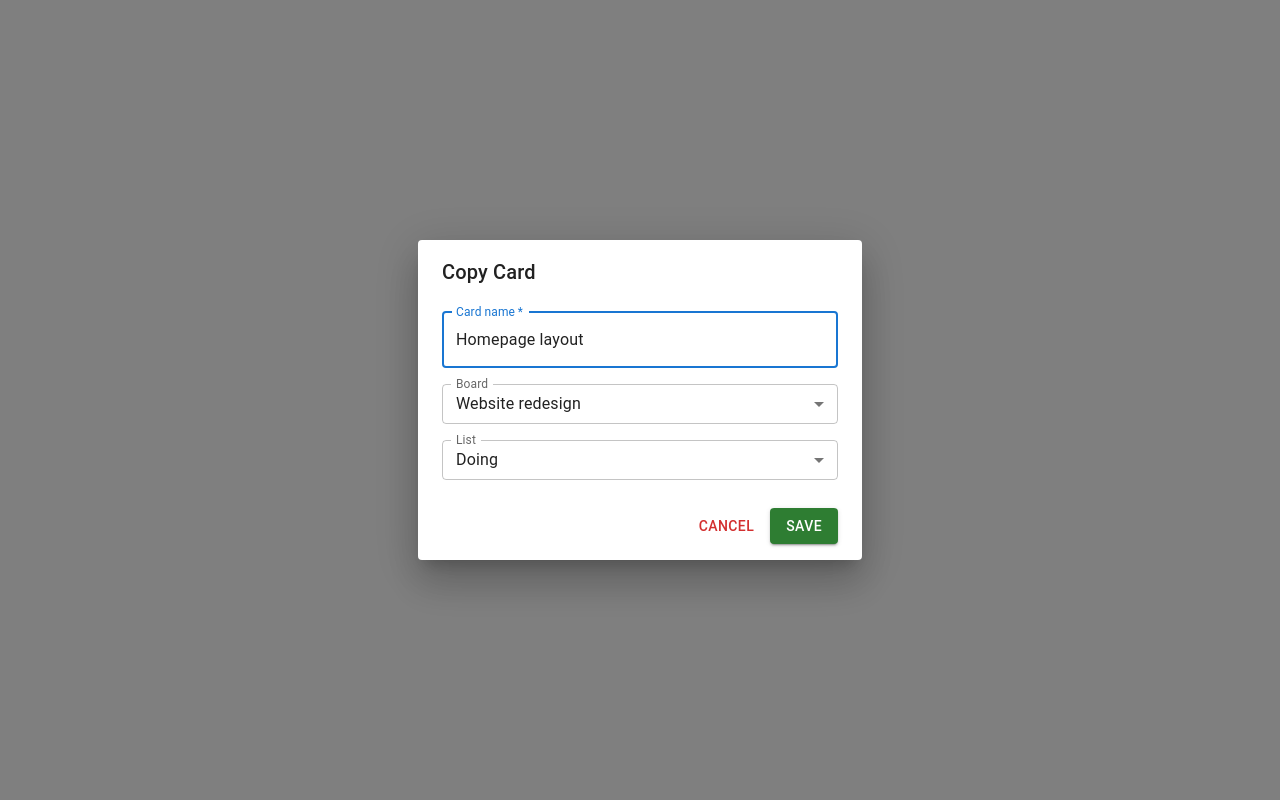
CopyCardDialog › offers every board, owned or shared, and the lists of the chosen one
This screenshot has width=1280, height=800.
Expected: the dropdown named "List" reads "Doing", [456,450,498,469]
Click the dropdown named "Board": {"x": 518, "y": 404} [456,394,581,413]
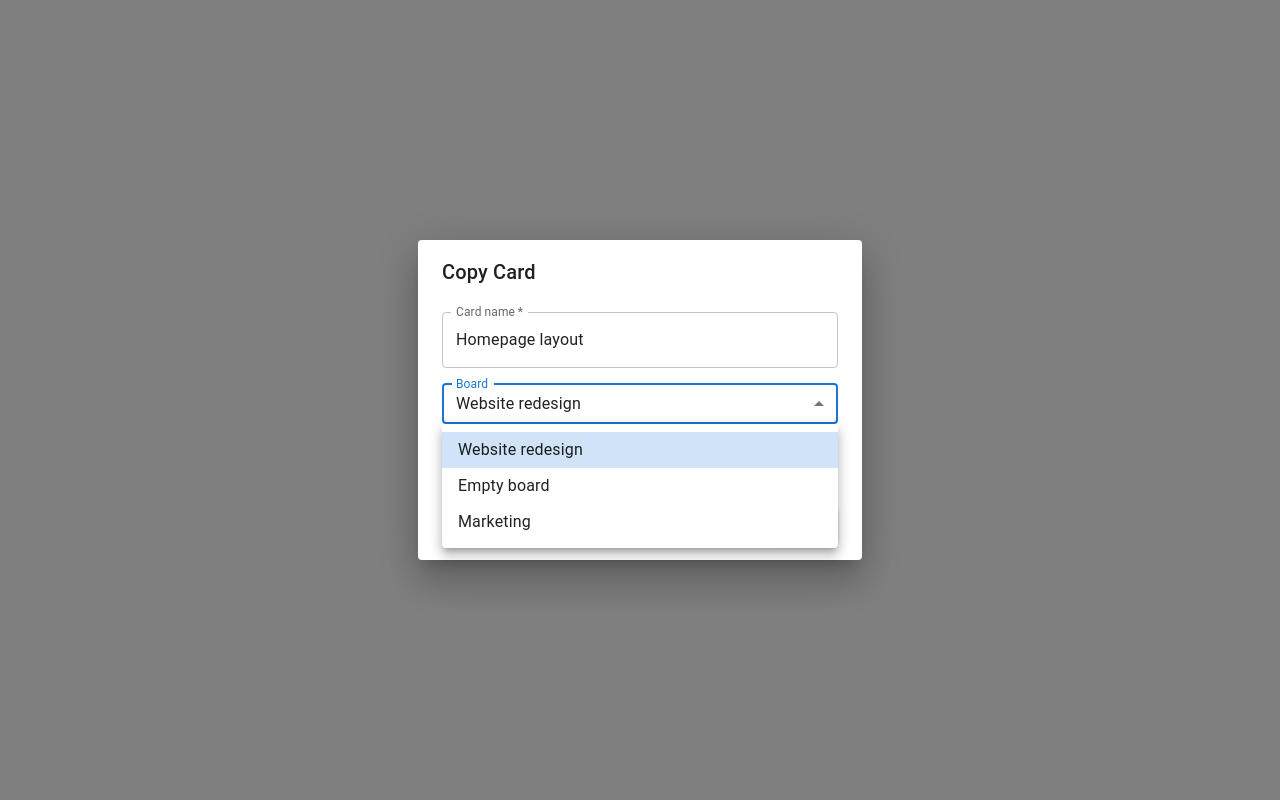
Result: the options read "Website redesign", "Empty board", "Marketing", in this order
Click the option "Website redesign": {"x": 520, "y": 450} [442,432,838,468]
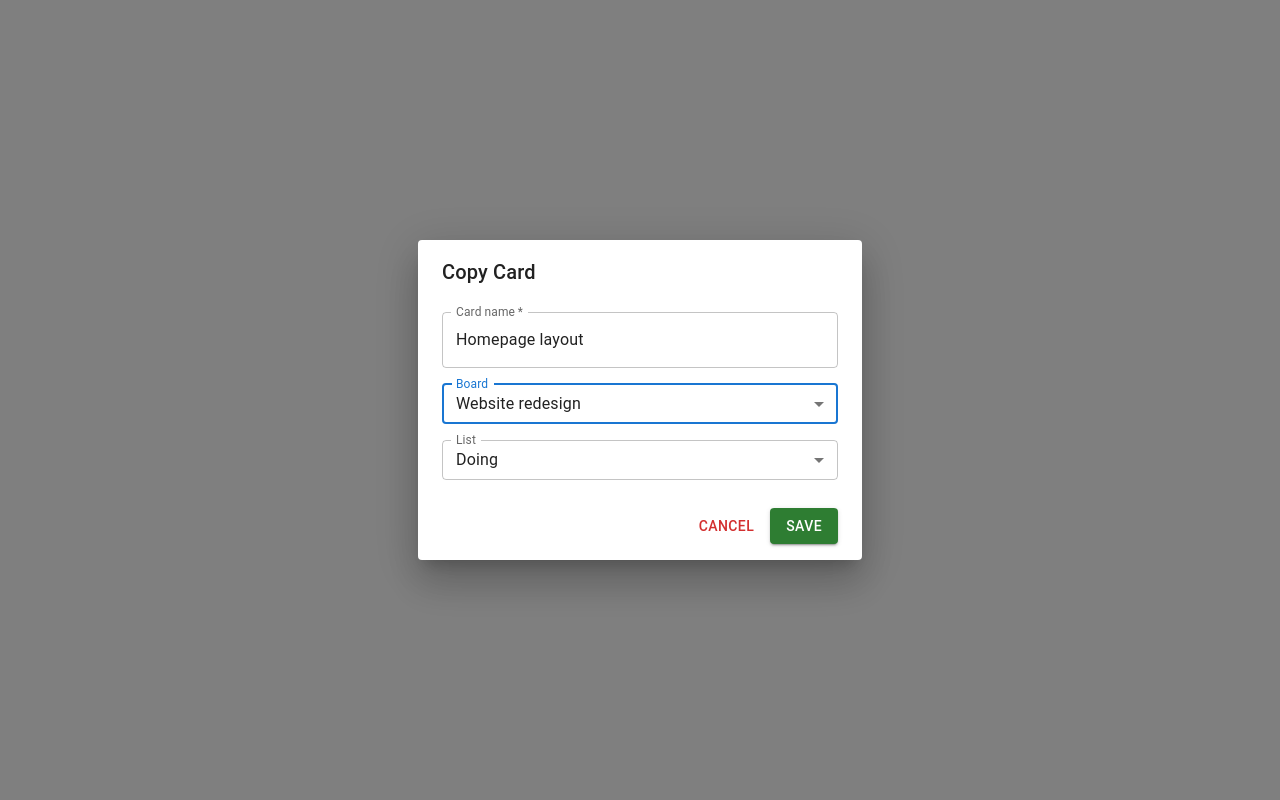
Click the dropdown named "List": {"x": 477, "y": 460} [456,450,498,469]
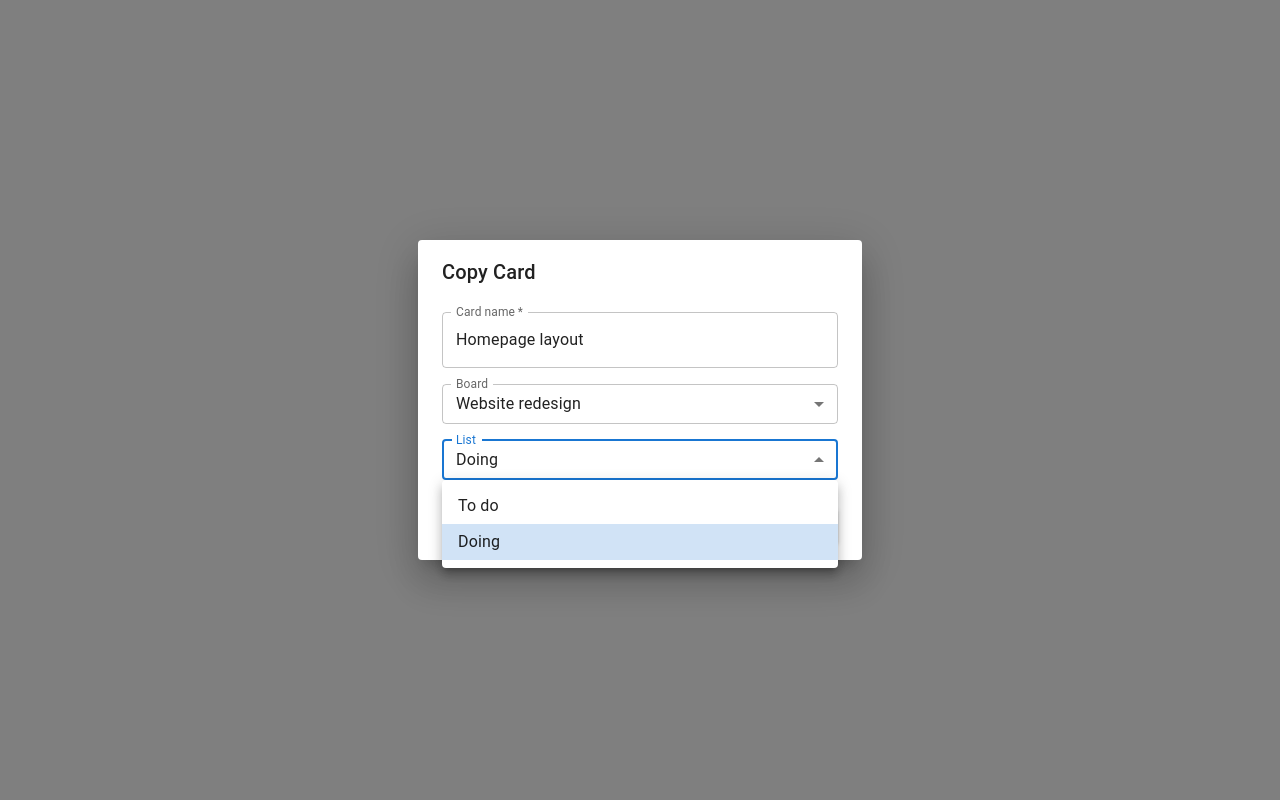
Result: the options read "To do", "Doing", in this order at [458,496,499,515]; [442,524,838,560]
